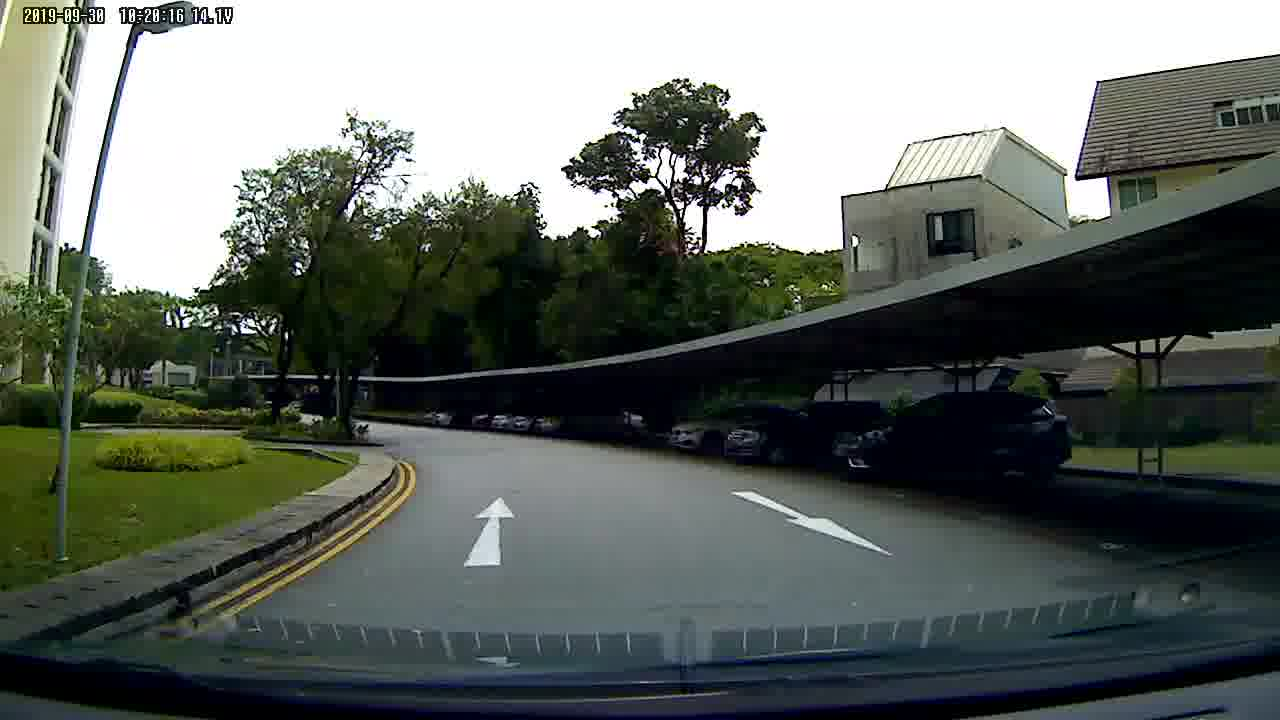car: (826, 388, 1079, 495), (721, 403, 824, 474), (669, 401, 720, 452)
